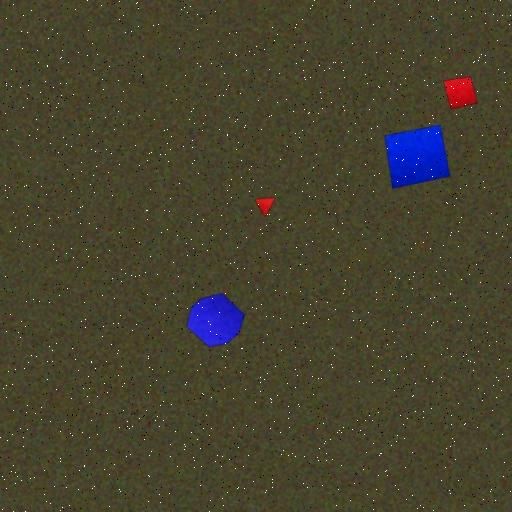BLUE_SQUARE: (384, 124, 450, 190)
RED_SQUARE: (444, 76, 478, 110)
